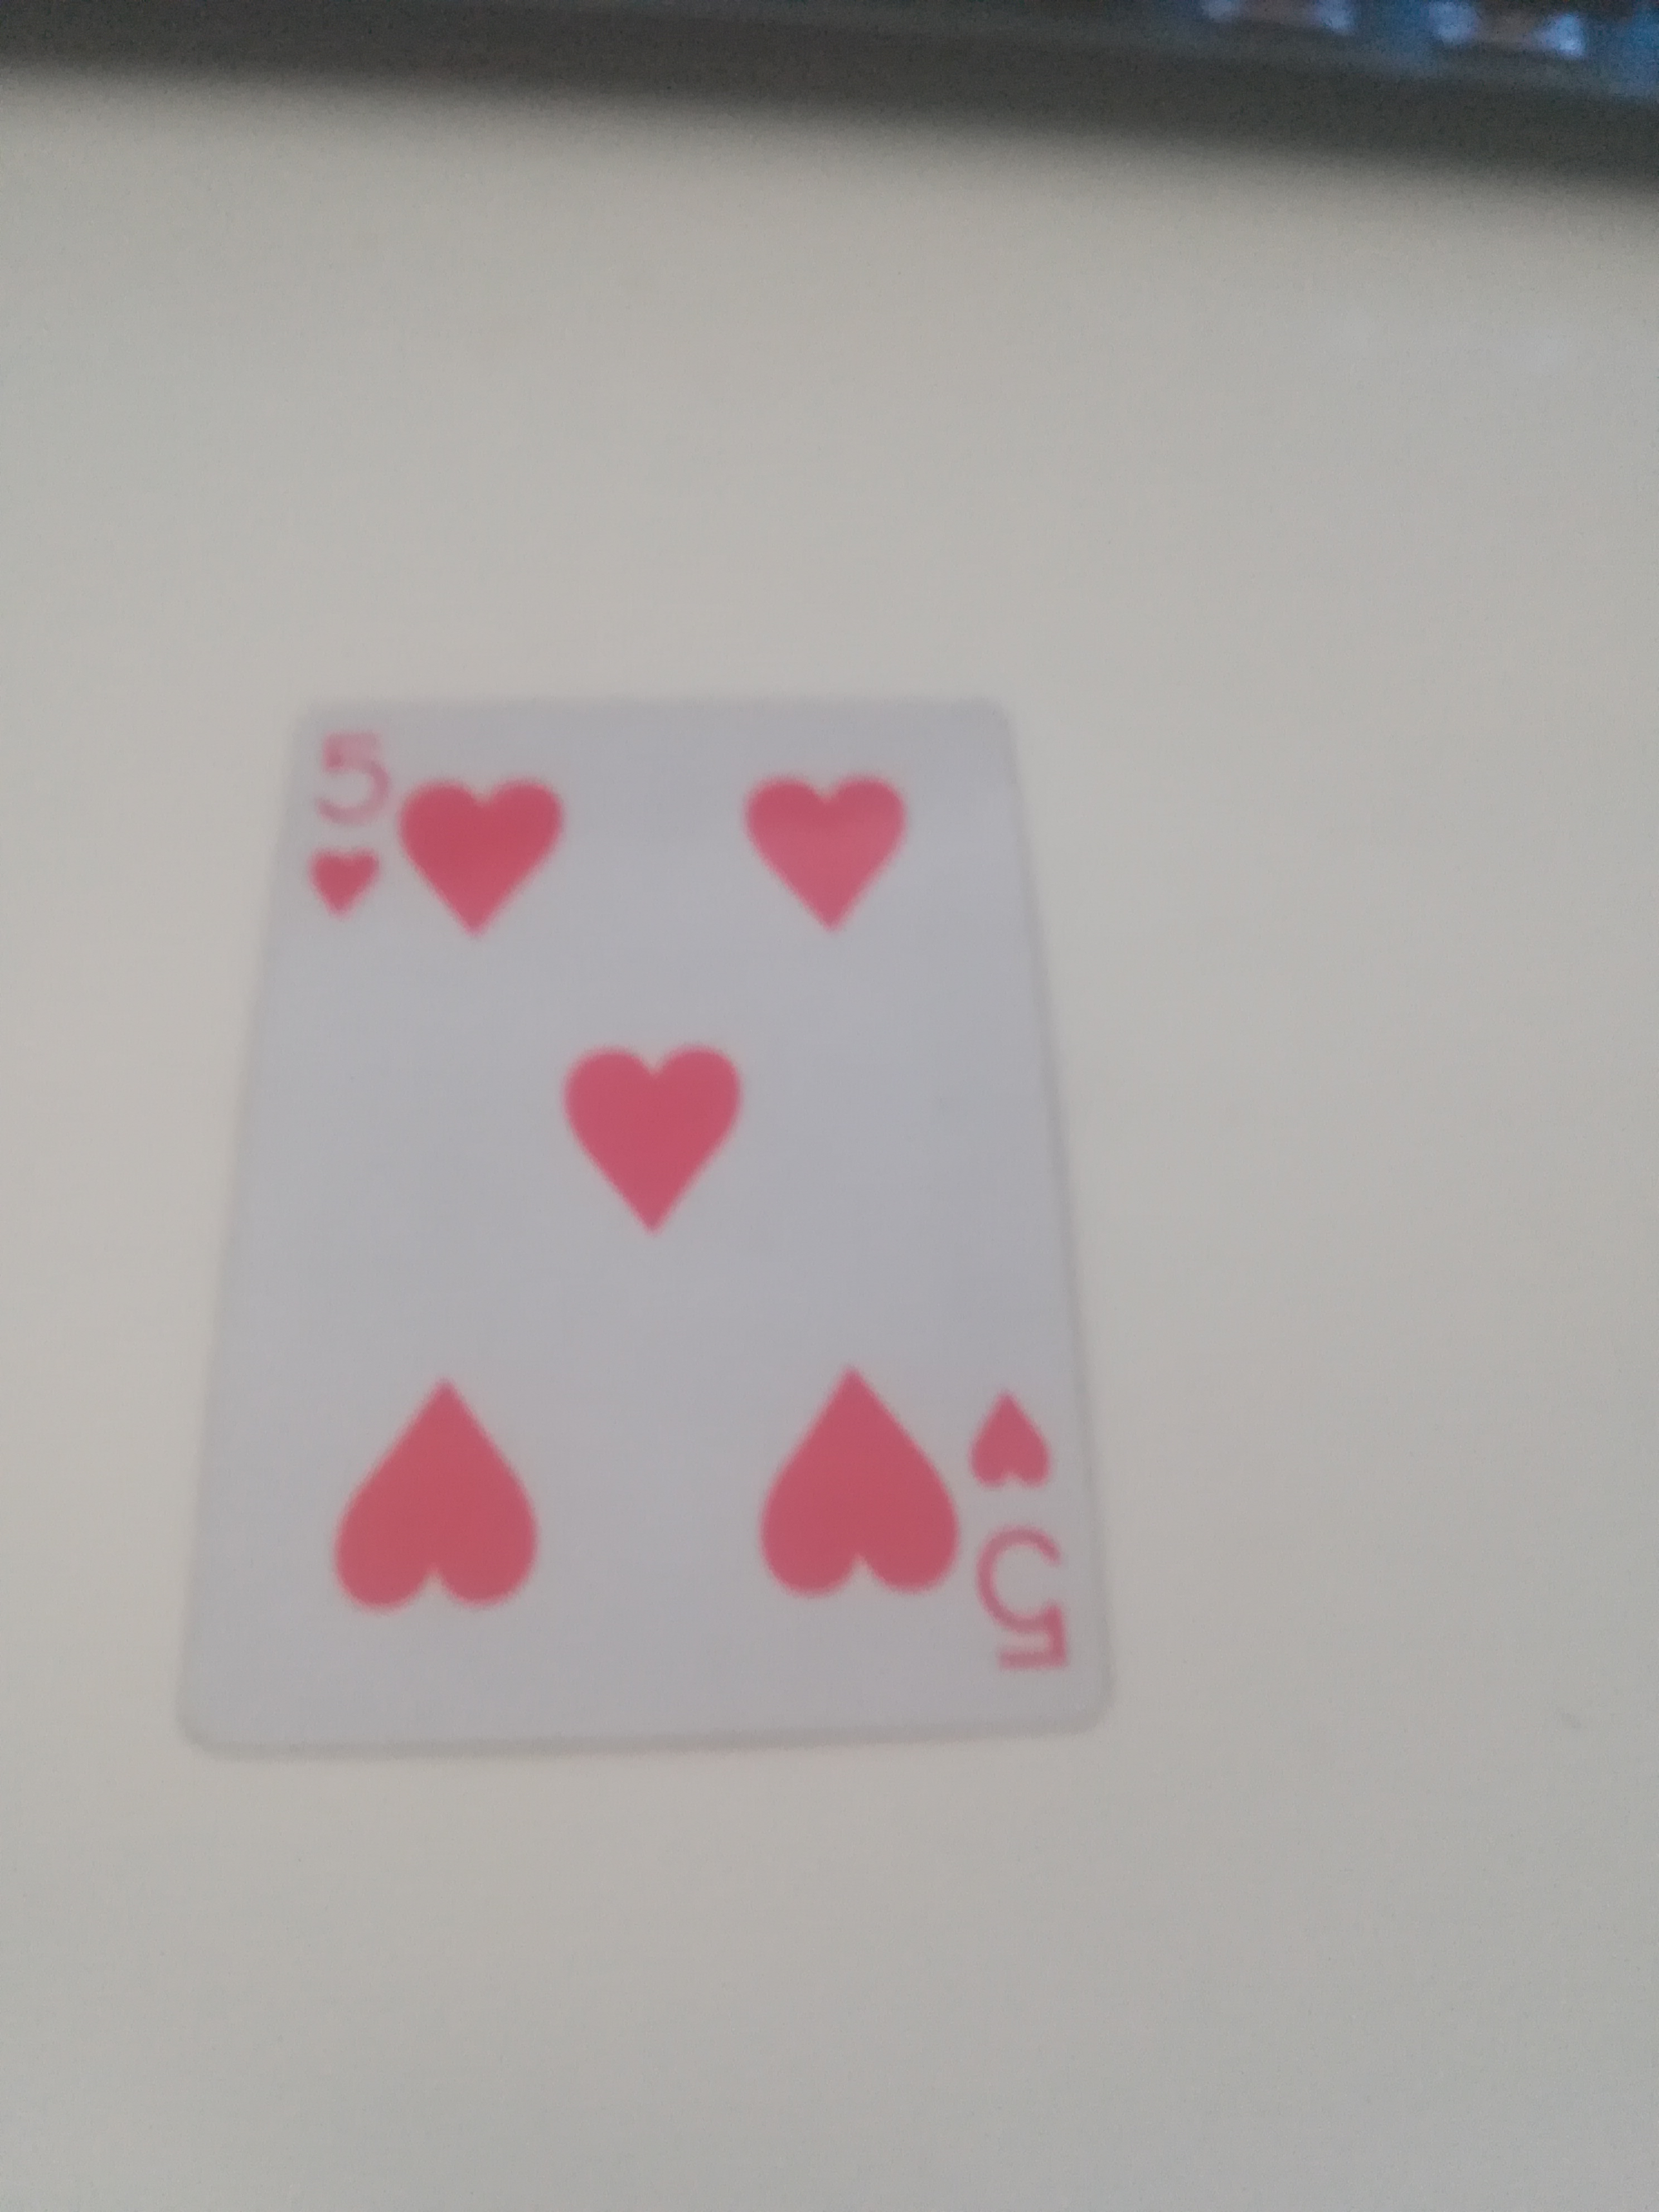5H: (200, 686, 1133, 1752)
